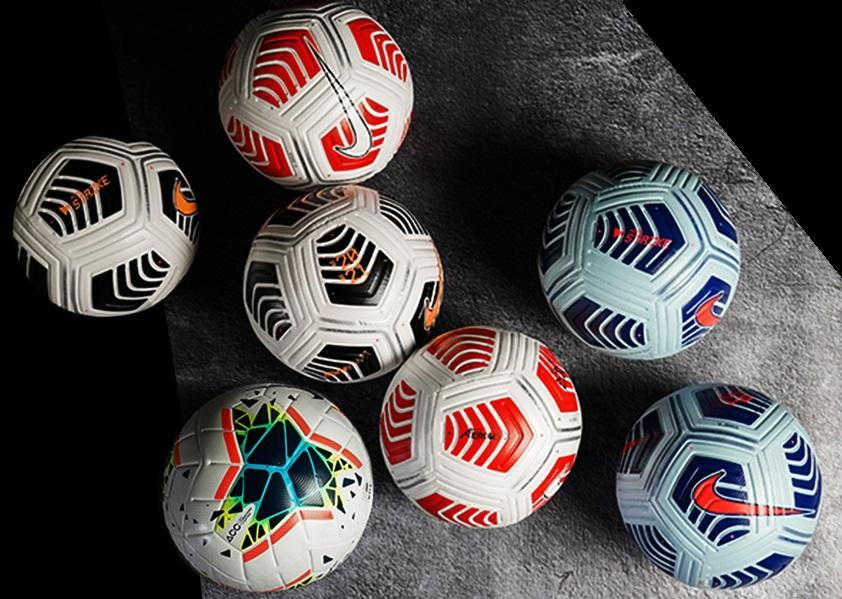ball: (162, 381, 374, 593), (615, 383, 822, 590), (380, 326, 584, 529), (536, 162, 741, 361), (243, 184, 444, 384), (219, 2, 414, 187), (12, 134, 198, 317)
